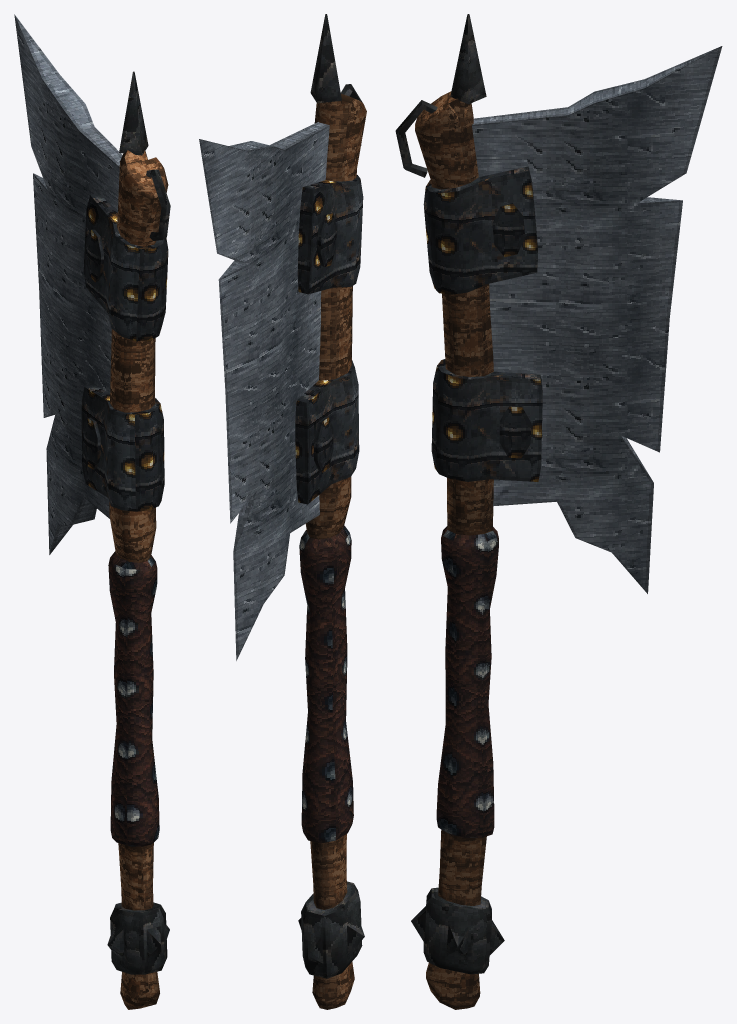
File: butchers_axe.glb
3 renders of one model, left to right at view 1: azimuth 30°, elevation 25°; view 2: azimuth 150°, elevation 25°; view 3: azimuth 270°, elevation 25°, orthographic. The views are drawn at different scales.
Parts seen in each view (by area): view 1: butchers_axe; view 2: butchers_axe; view 3: butchers_axe.
Part boxes in pixels (x1,y1,x2,y2): butchers_axe: [14, 14, 170, 1009]; butchers_axe: [199, 14, 366, 1009]; butchers_axe: [395, 14, 722, 1009].
Bounding box in the file's own units: 0.0509 × 0.7227 × 0.2162.
1 material, 1 textured.
